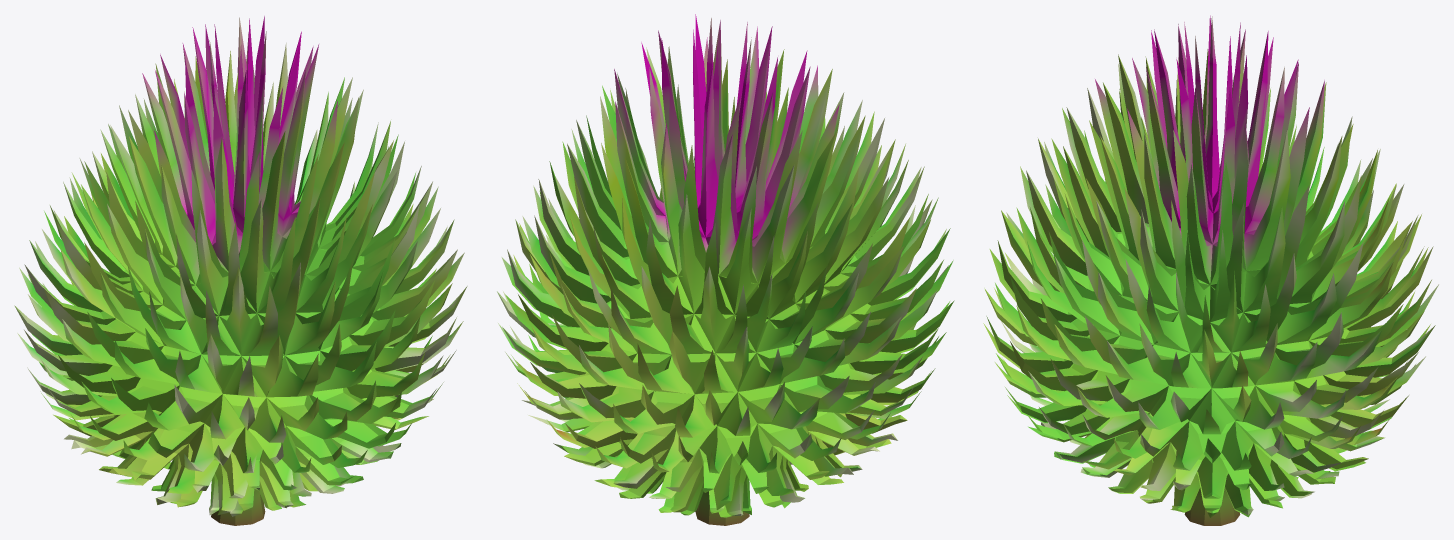
File: Burdock.fbx
3 views of the same model, side by side, from view 1: azimuth 30°, elevation 25°; view 2: azimuth 150°, elevation 25°; view 3: azimuth 270°, elevation 25° (orthographic).
Visible parts, largest first — view 1: Murdock; view 2: Murdock; view 3: Murdock.
Part boxes in pixels (<box>): Murdock: <box>14,16,467,525</box>; Murdock: <box>497,14,954,525</box>; Murdock: <box>983,15,1438,525</box>.
Size of what is drawn, in the model's own units: 48.6 by 57.97 by 48.24.
